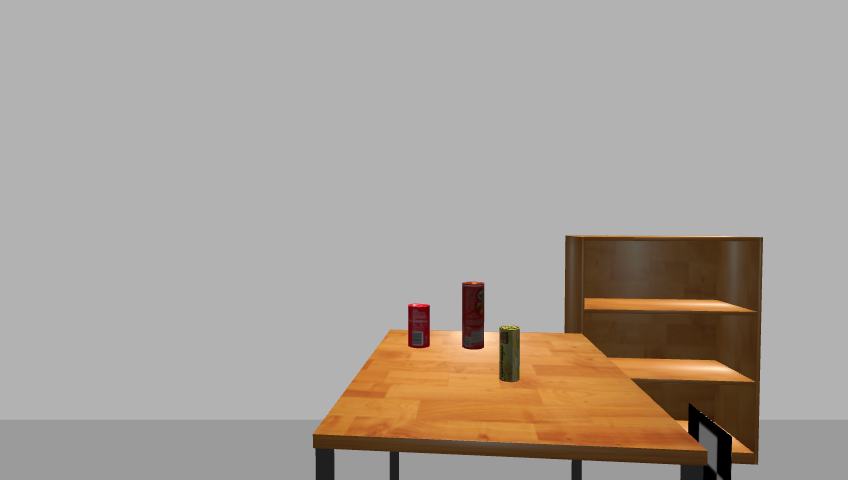aruco marker: (683, 403, 737, 480)
biscuits pack: (499, 325, 522, 384)
bookshelf: (560, 232, 770, 476)
coke can: (406, 303, 432, 349)
dinner table: (308, 328, 712, 479)
pringles can: (459, 280, 487, 351)
